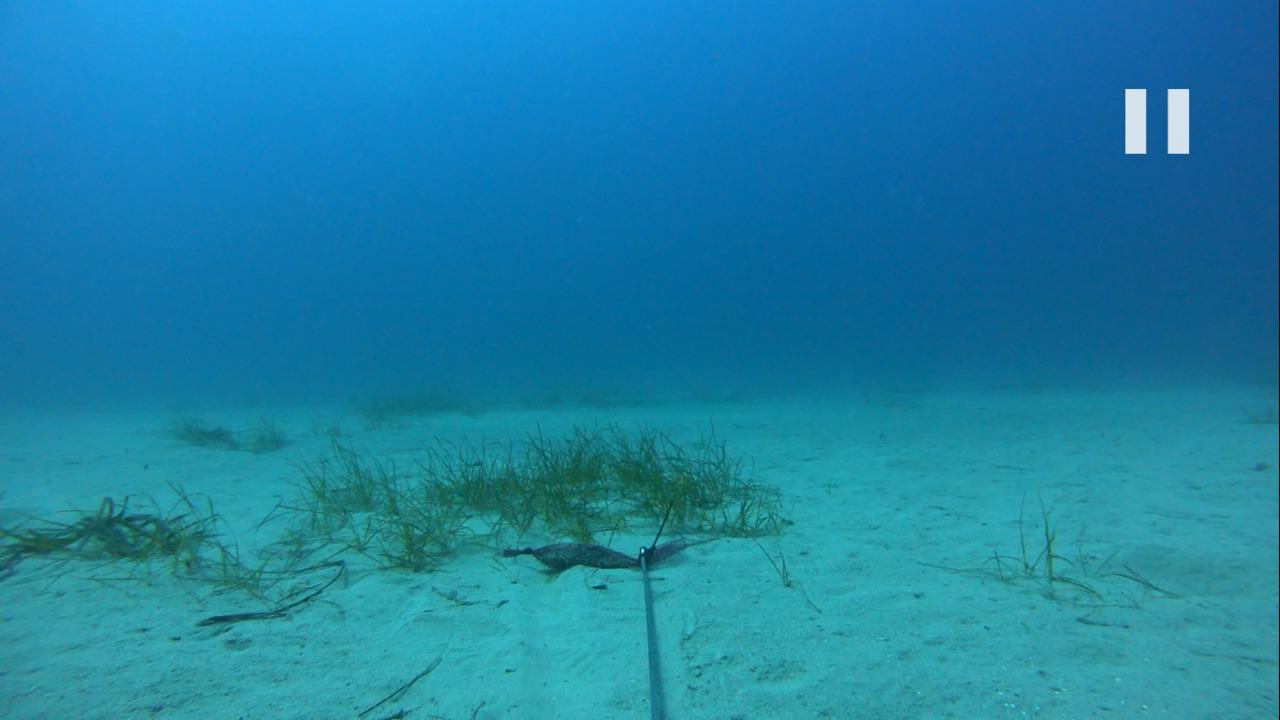dactylopterus: (194, 419, 247, 451)
